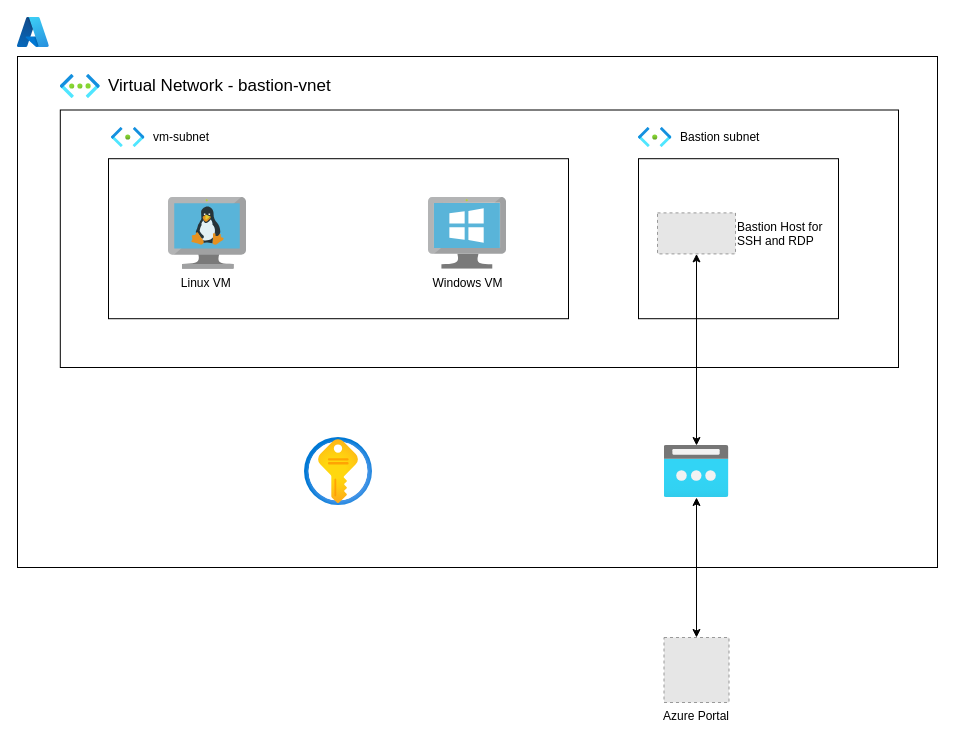
This 955x740 diagram has some shape labels left out. Grey dashed boxes stand in for pictures. The shapes that lost their labels are listed below. From the top down, each one's centre as x and y in pixels, then its label:
(x=33, y=32): Azure Cloud - US Central Region
(x=338, y=471): Key Vault "packer-credentials" Secret
(x=696, y=471): Bastion Public IP Address
